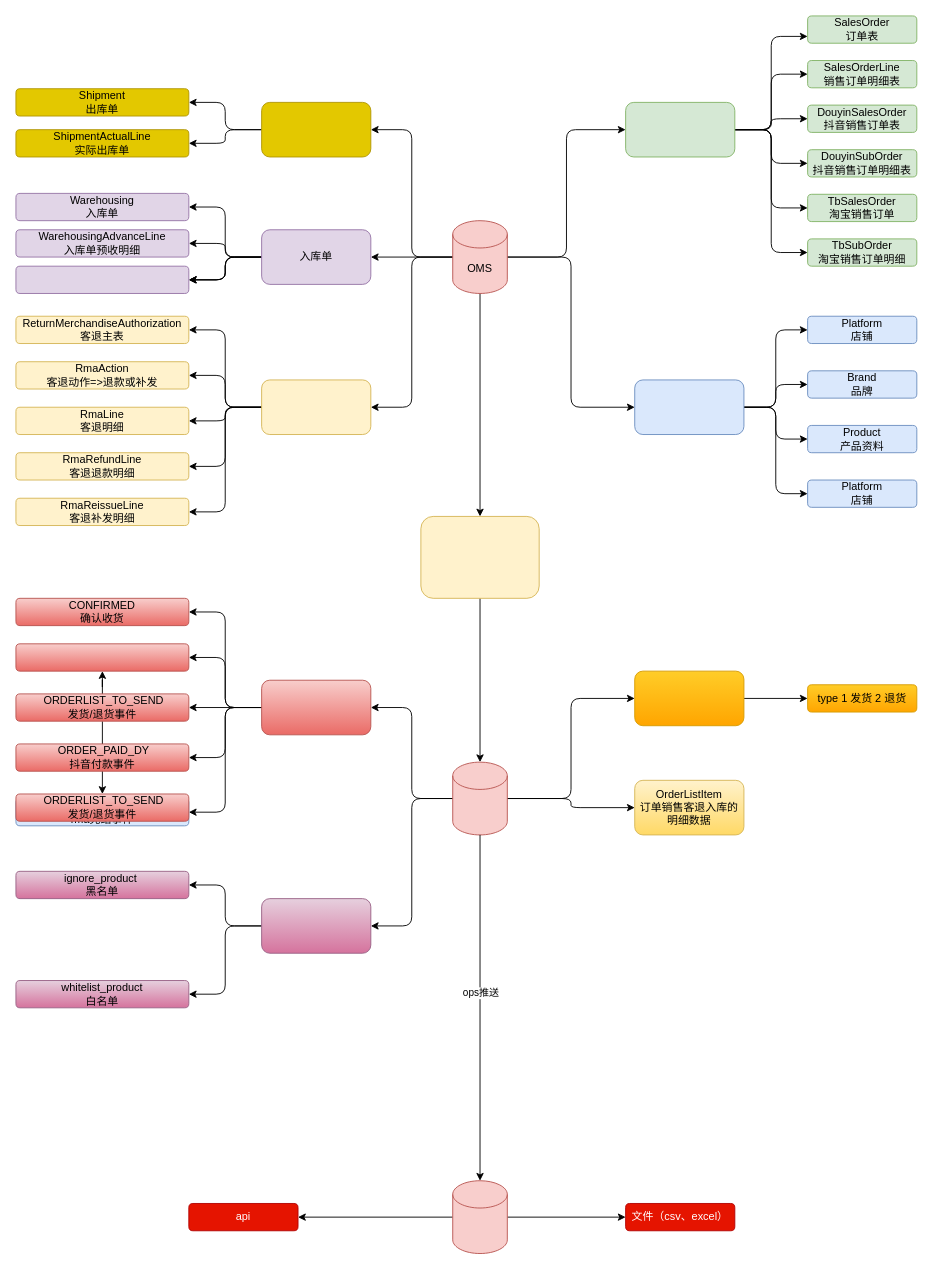
The diagram is 933 pixels wide and 1269 high, and some of its shapes have lost their labels. Each missing label, with the centre of its shape:
1.销售订单已发货后推送队列 2.退货入库完成后推送队列都是推送到ops的queu表: (x=479, y=557)
AFTER_ORDER_DISPATCHED 发货/退货事件: (x=102, y=657)
ops: (x=479, y=798)
OrderList 销售出库和客退入库数据: (x=689, y=698)
queue 事件表（发货、退货入库等）: (x=316, y=707)
WarehousingActualLine 入库单实收明细: (x=102, y=279)
下游品牌系统: (x=479, y=1217)
出库单: (x=316, y=129)
基础数据表: (x=689, y=407)
客退表: (x=316, y=407)
订单表: (x=680, y=129)
黑白名单: (x=316, y=925)
